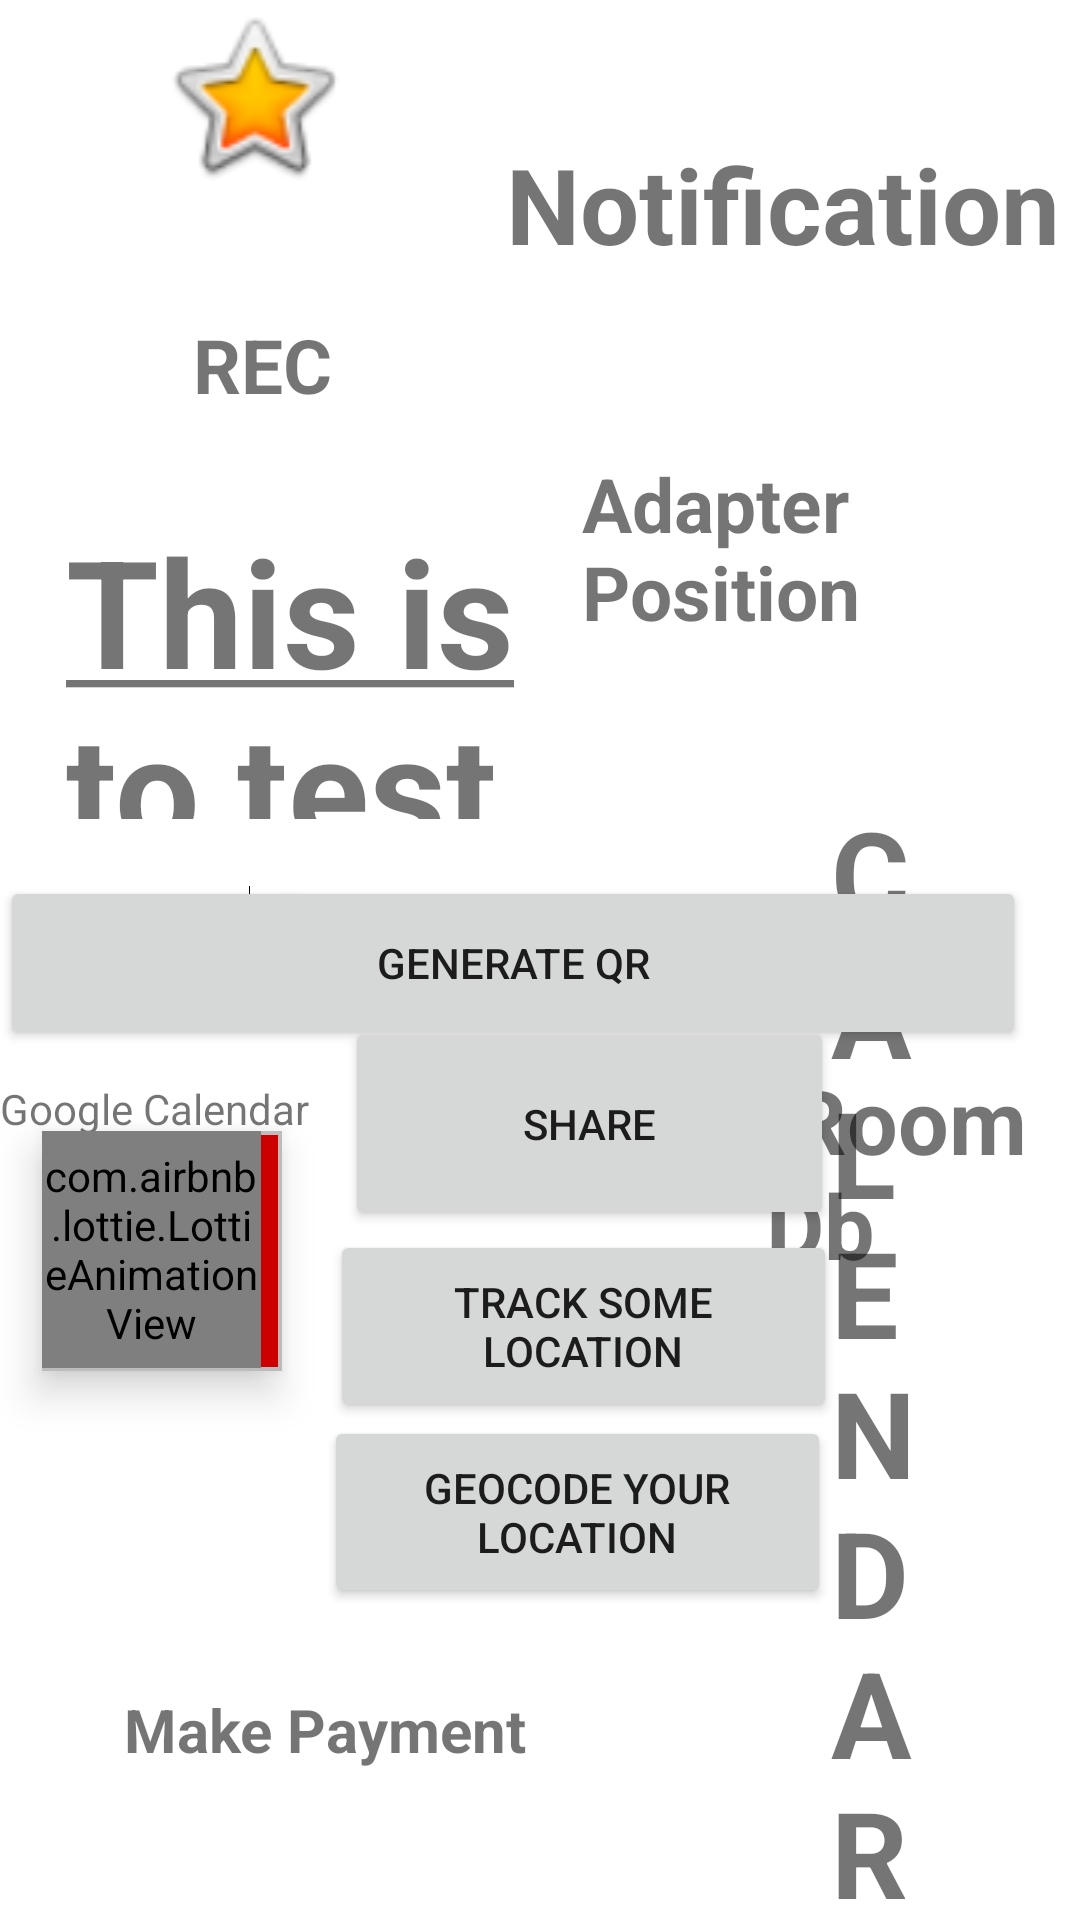

Named icons in this screenshot (1080w x 1920h) and their centers, (x,y):
star on: (255,97)
